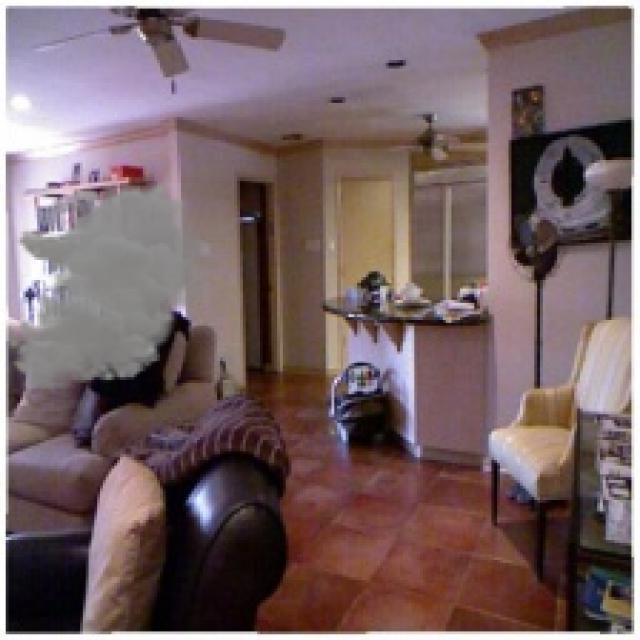Smoke: (6, 182, 218, 392)
